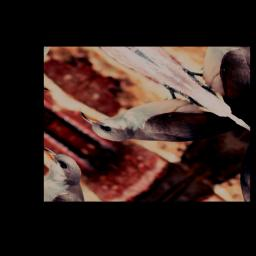Cuckoo: (73, 59, 247, 189)
